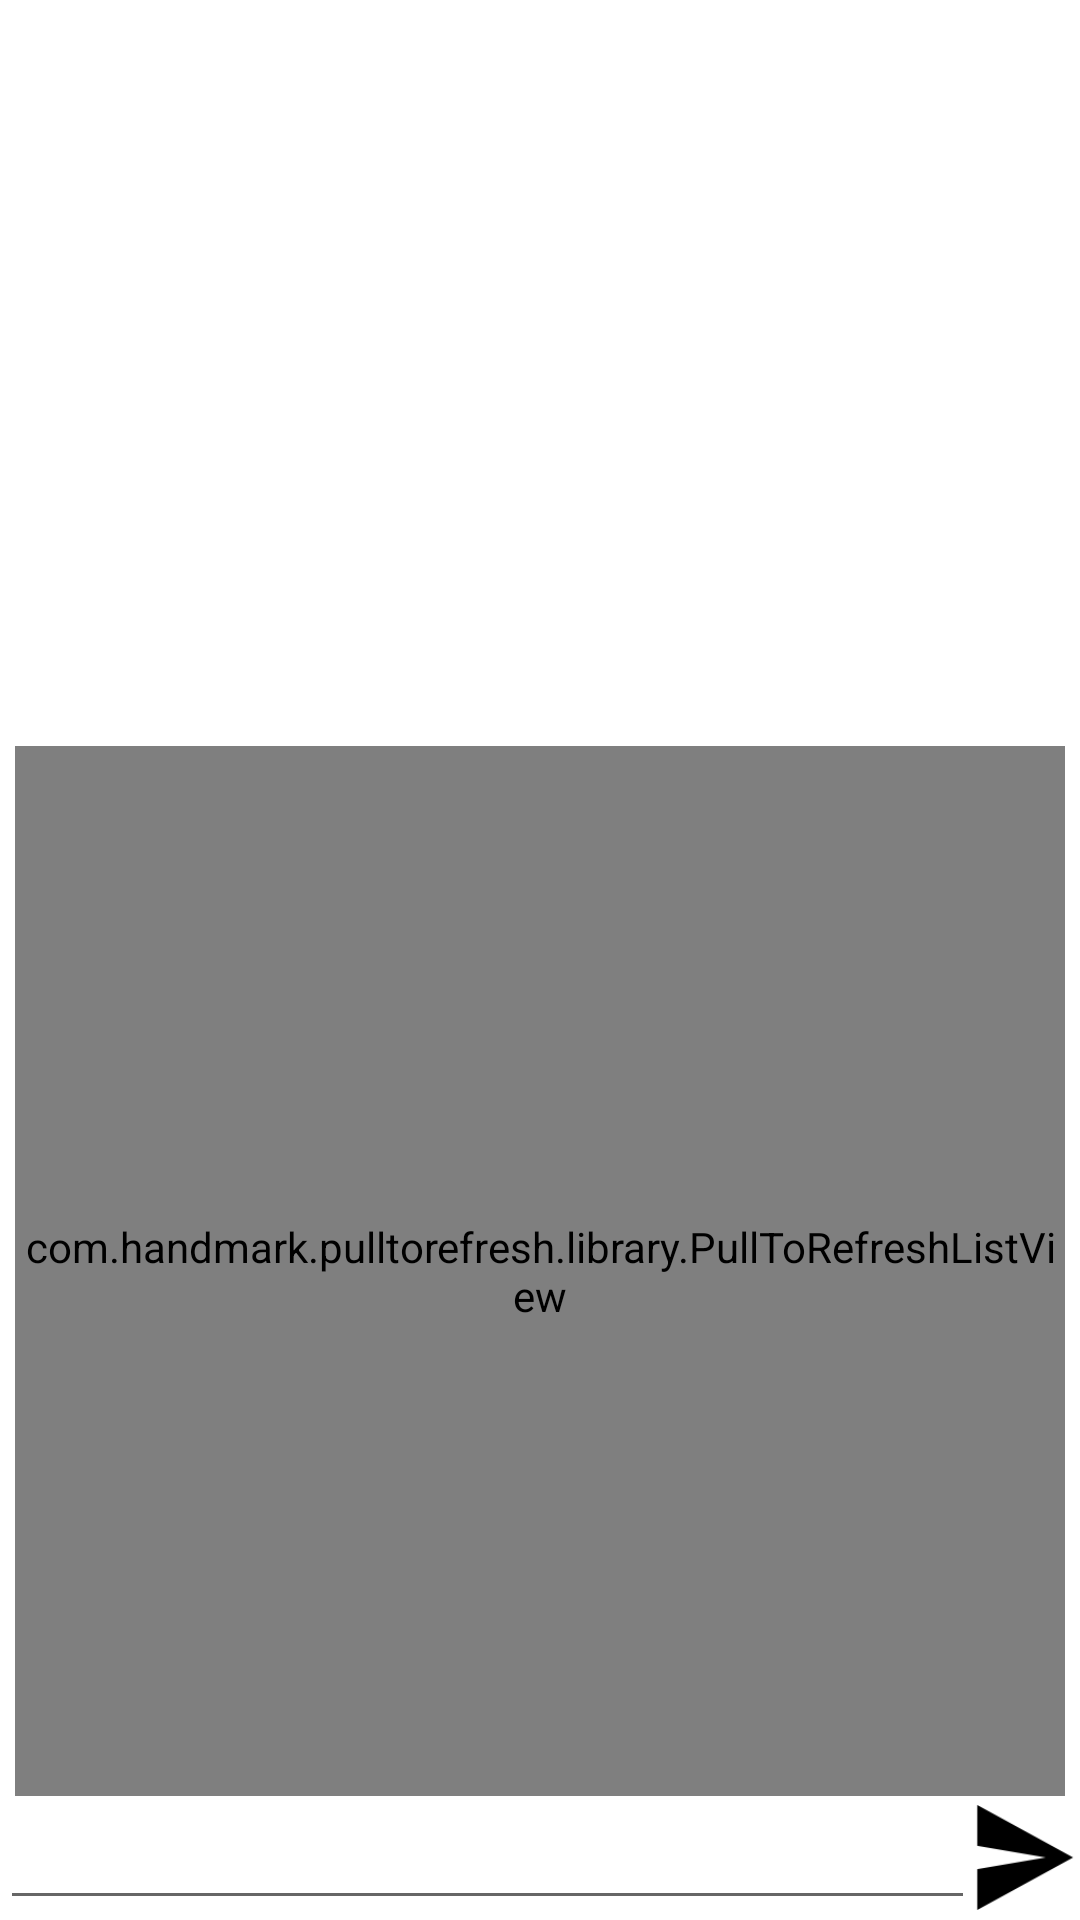

Point at icon controls on the screen. Image size 1080px x 1920px, points as point (x, y).
send: point (1025, 1857)
